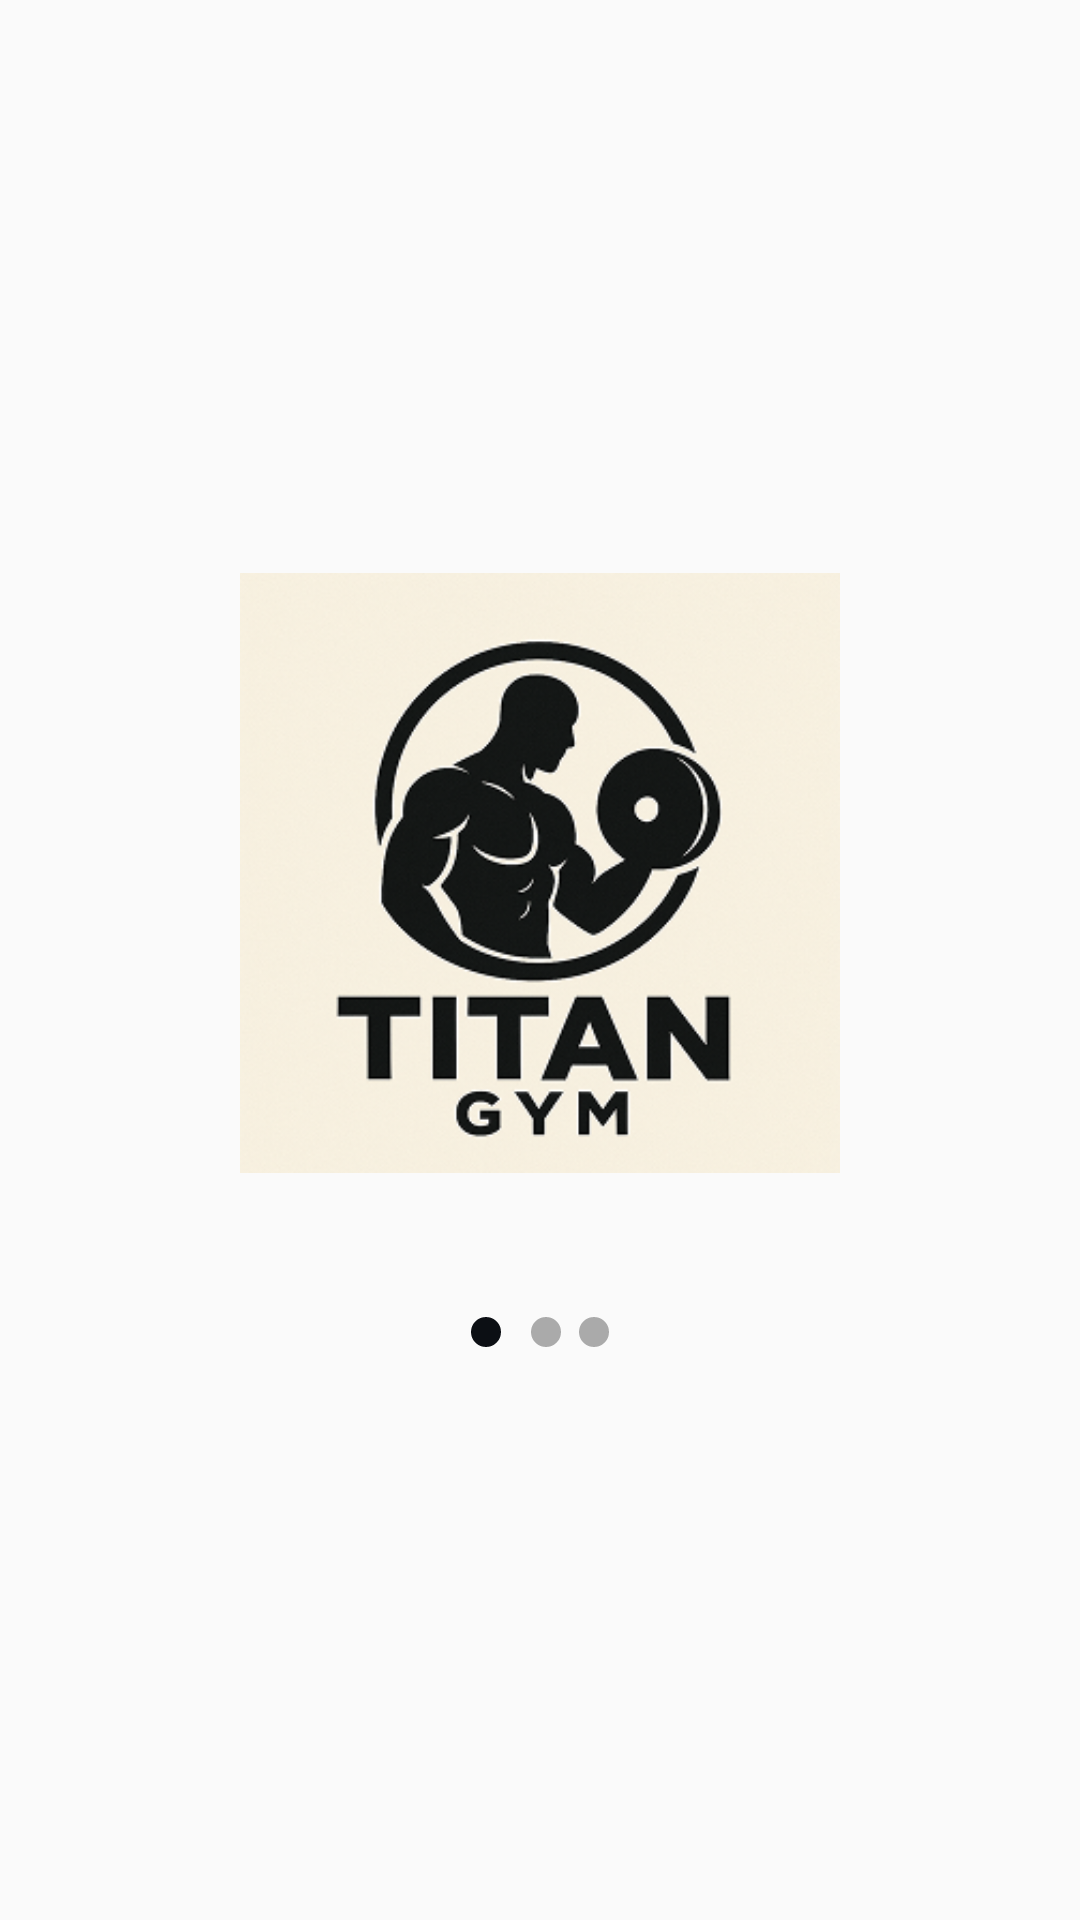

Named icons in this screenshot (1080w x 1920h) and their centers, [x,y]:
dot: [486,1332], [546,1332], [594,1332]
